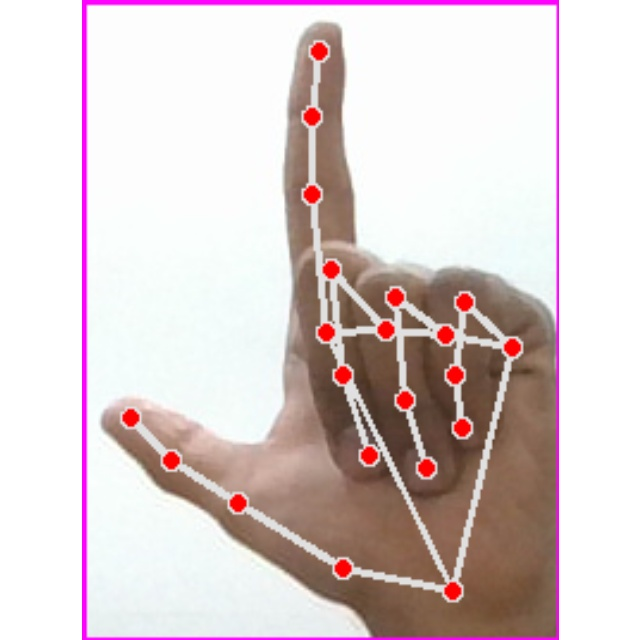L: (82, 0, 559, 640)
